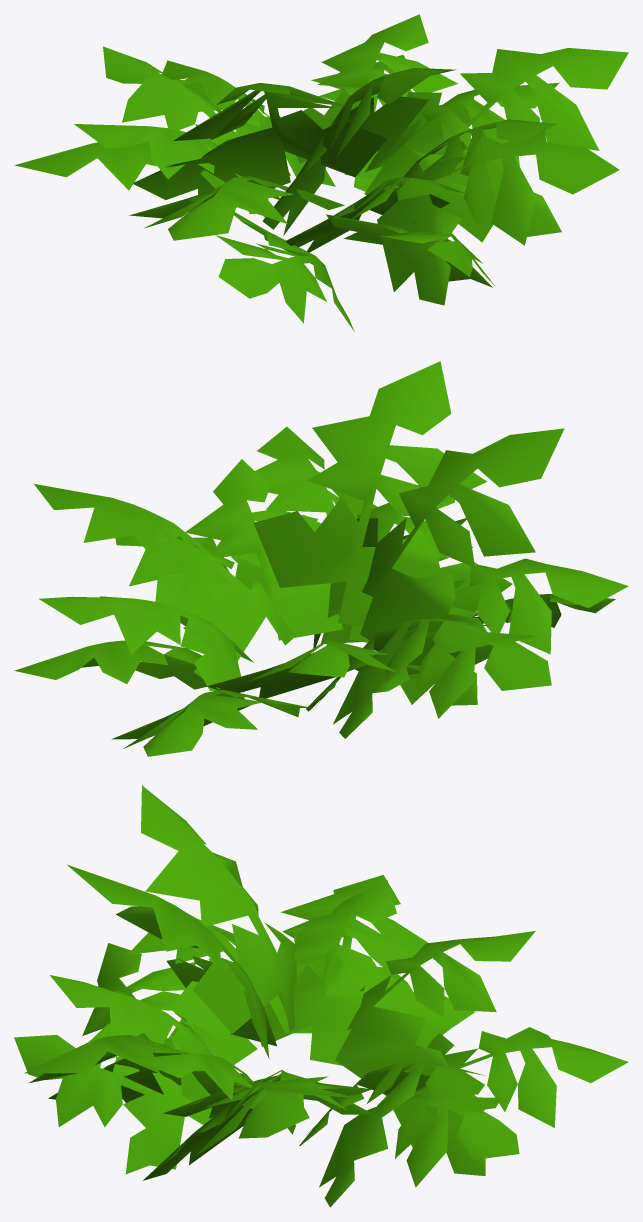
File: SmallBush.fbx
The picture shows the model from 3 angles, top to bottom: view 1: azimuth 30°, elevation 25°; view 2: azimuth 150°, elevation 25°; view 3: azimuth 270°, elevation 25°; orthographic projection. The views are drawn at different scales.
Visible parts, largest first — view 1: GWBush.001; view 2: GWBush.001; view 3: GWBush.001.
Part boxes in pixels (x1,y1,x2,y2): GWBush.001: (14,14,628,331); GWBush.001: (14,361,628,756); GWBush.001: (14,785,628,1207).
Size of the model in its own units: 153 by 68.38 by 141.
